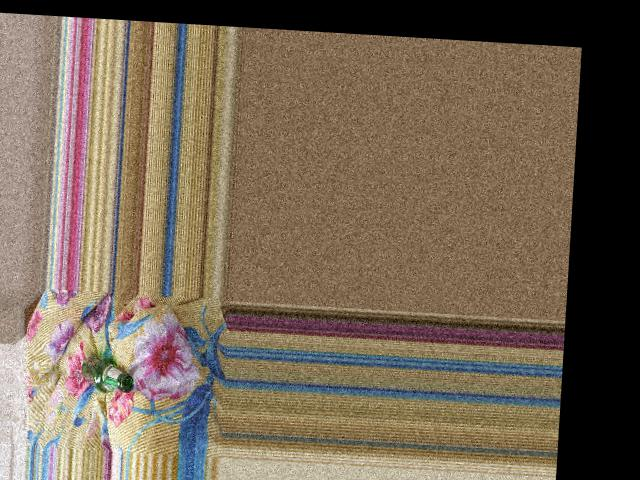beer: (80, 357, 135, 394)
